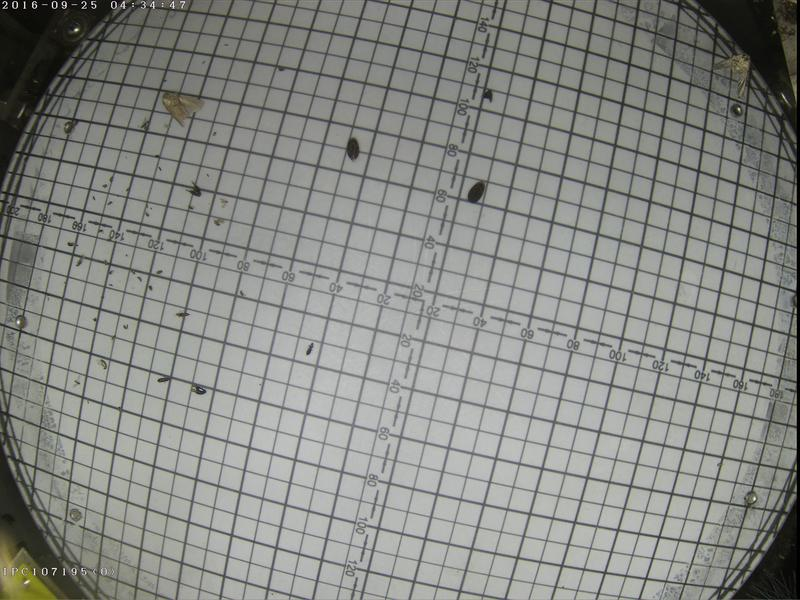Spodoptera litura: (160, 88, 203, 126)
